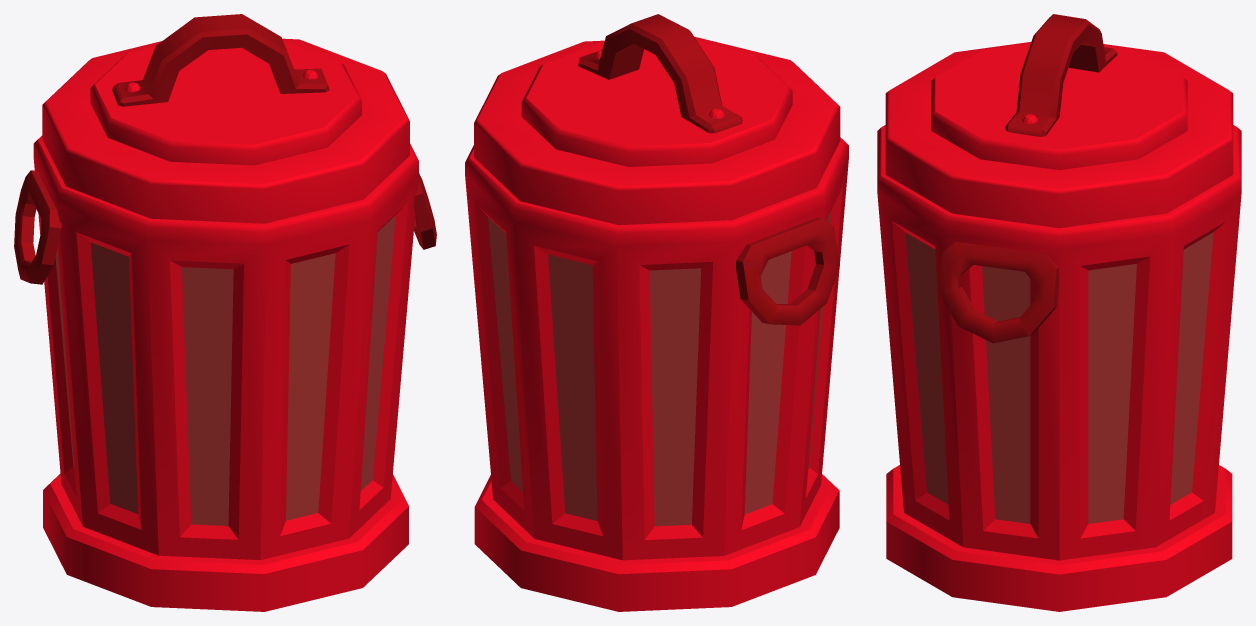
The model's file is SM_City_Bin4.fbx.
3 views of the same model, side by side, from view 1: azimuth 30°, elevation 25°; view 2: azimuth 150°, elevation 25°; view 3: azimuth 270°, elevation 25° (orthographic).
Visible parts, largest first — view 1: SM_City_Bin4; view 2: SM_City_Bin4; view 3: SM_City_Bin4.
Boxes of the visible parts, left/top/right/bottom form: SM_City_Bin4: left=14, top=14, right=436, bottom=611; SM_City_Bin4: left=465, top=14, right=848, bottom=611; SM_City_Bin4: left=877, top=14, right=1241, bottom=611.
Size of the model in its own units: 78.45 by 106 by 68.73.
